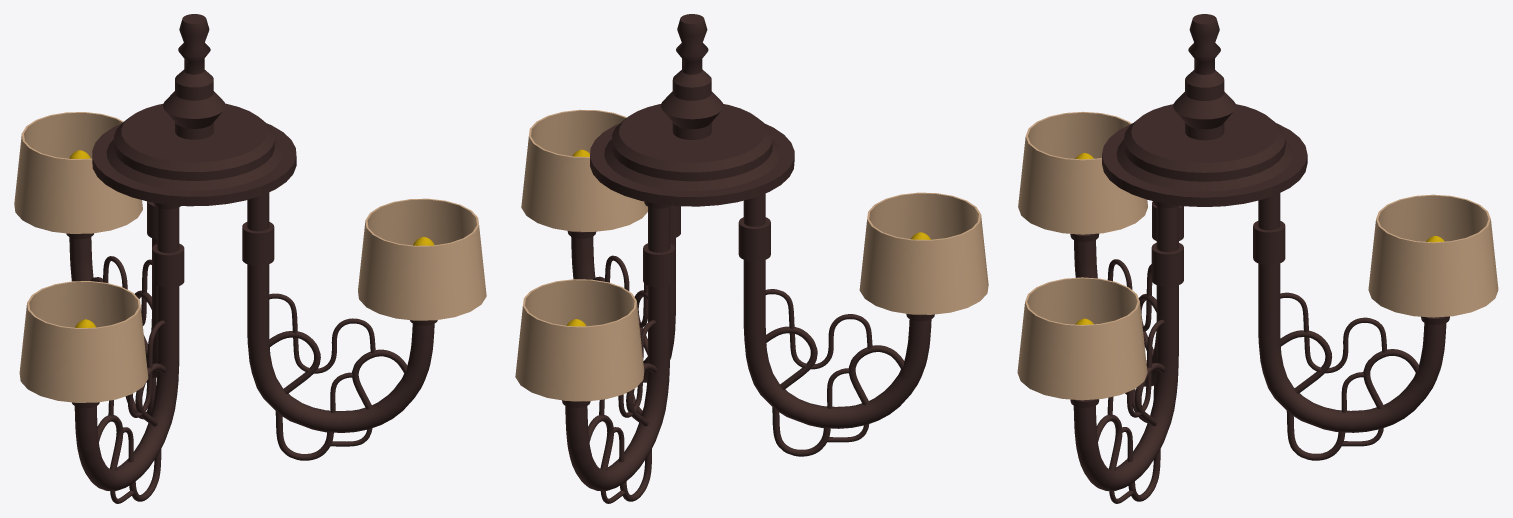
Rendered from Lustre2_1.fbx.
3 renders of one model, left to right at view 1: azimuth 30°, elevation 25°; view 2: azimuth 150°, elevation 25°; view 3: azimuth 270°, elevation 25°, orthographic.
Parts seen in each view (by area): view 1: pCylinder1147, pPipe163, pPipe165, pPipe164, pCylinder1185, pCylinder1190, pCylinder1198, pCylinder1180, pCylinder1179, pCylinder1160, pCylinder1181, pCylinder1148; view 2: pCylinder1147, pPipe164, pPipe165, pPipe163, pCylinder1190, pCylinder1198, pCylinder1185, pCylinder1193, pCylinder1192, pCylinder1189, pCylinder1187, pCylinder1180 (+1 smaller); view 3: pCylinder1147, pPipe163, pPipe164, pPipe165, pCylinder1198, pCylinder1185, pCylinder1190, pCylinder1165, pCylinder1174, pCylinder1173, pCylinder1176, pCylinder1160.
Part boxes in pixels (x1,y1,x2,y2): pCylinder1147: [92, 14, 296, 206]; pPipe163: [358, 198, 486, 320]; pPipe165: [19, 281, 148, 402]; pPipe164: [14, 112, 142, 233]; pCylinder1185: [242, 192, 434, 432]; pCylinder1190: [74, 202, 184, 490]; pCylinder1198: [69, 201, 157, 382]; pCylinder1180: [293, 318, 375, 373]; pCylinder1179: [269, 331, 320, 393]; pCylinder1160: [352, 349, 407, 409]; pCylinder1181: [275, 411, 333, 460]; pCylinder1148: [97, 416, 123, 470]; pCylinder1147: [590, 14, 794, 206]; pPipe164: [515, 279, 644, 401]; pPipe165: [859, 192, 988, 314]; pPipe163: [521, 109, 647, 231]; pCylinder1190: [738, 193, 931, 428]; pCylinder1198: [565, 201, 675, 490]; pCylinder1185: [571, 205, 680, 382]; pCylinder1193: [789, 314, 871, 369]; pCylinder1192: [765, 326, 815, 389]; pCylinder1189: [848, 345, 903, 405]; pCylinder1187: [772, 407, 829, 456]; pCylinder1180: [605, 255, 647, 327]; pCylinder1147: [1102, 14, 1307, 206]; pPipe163: [1017, 277, 1147, 400]; pPipe164: [1368, 194, 1498, 317]; pPipe165: [1018, 111, 1147, 234]; pCylinder1198: [1253, 193, 1446, 432]; pCylinder1185: [1073, 201, 1183, 491]; pCylinder1190: [1074, 201, 1183, 386]; pCylinder1165: [1304, 318, 1386, 373]; pCylinder1174: [1280, 330, 1331, 393]; pCylinder1173: [1363, 349, 1418, 408]; pCylinder1176: [1286, 411, 1345, 460]; pCylinder1160: [1096, 415, 1122, 470].
Bounding box in the file's own units: 53.12 × 49.5 × 48.95.
